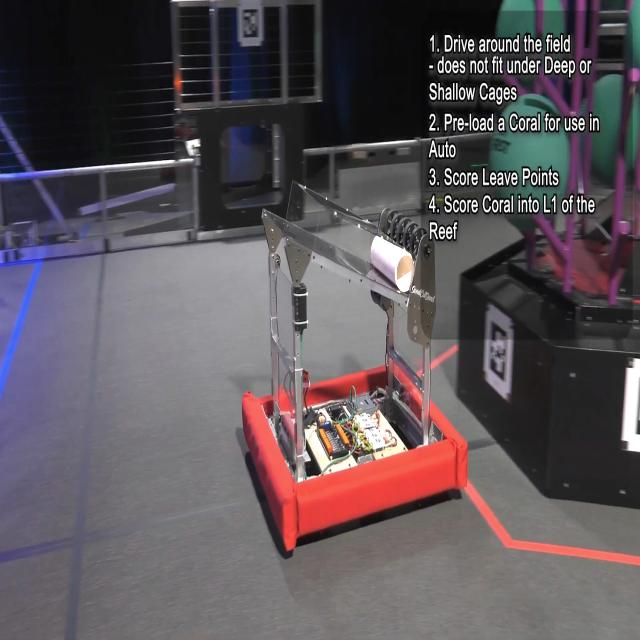Coral: (370, 233, 414, 294)
